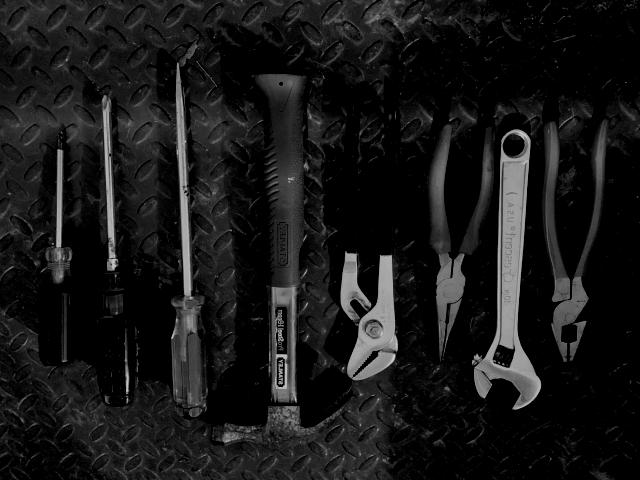Adjustable spanner: (472, 129, 541, 410)
Gas wrench: (340, 92, 400, 381)
Hammer: (211, 74, 352, 449)
Needle-nose pliers: (424, 119, 495, 360)
Pliers: (539, 114, 610, 362)
Screwdriver: (93, 95, 138, 406), (170, 62, 208, 421), (38, 132, 78, 366)
